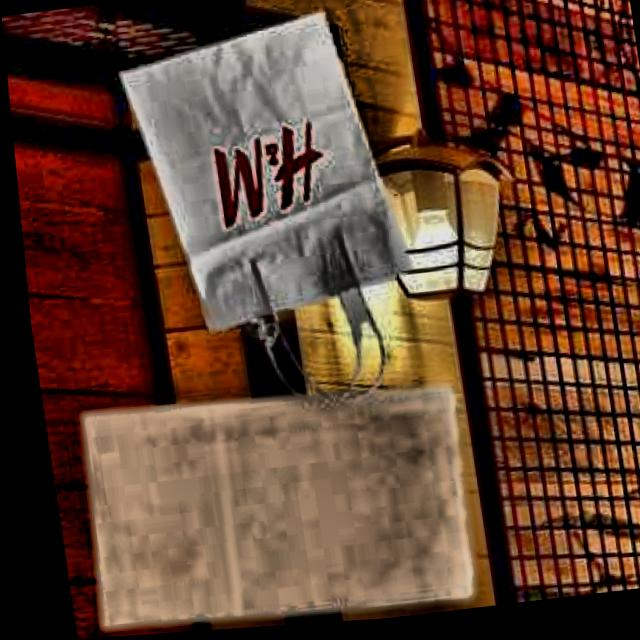Paper-bag: (91, 1, 437, 428), (46, 373, 481, 639)
